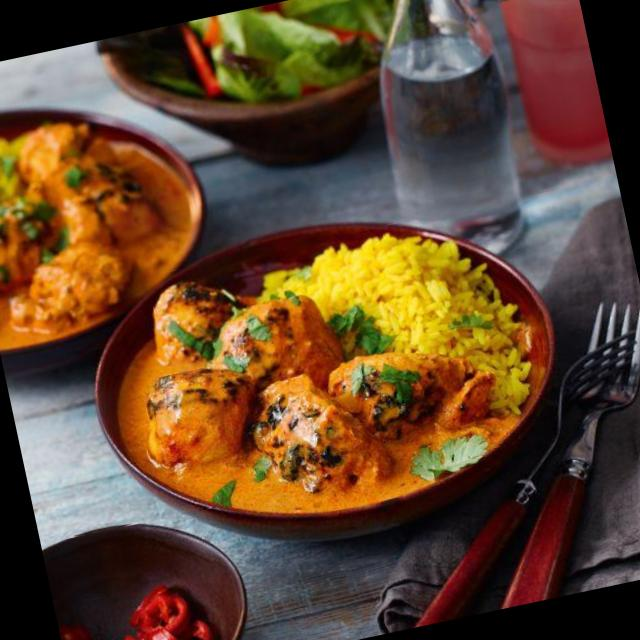chicken: (94, 280, 417, 568), (0, 104, 189, 332)
rice: (302, 215, 540, 380)
